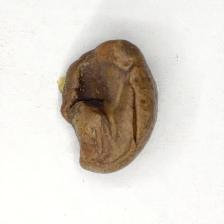NG: (62, 56, 140, 169)
